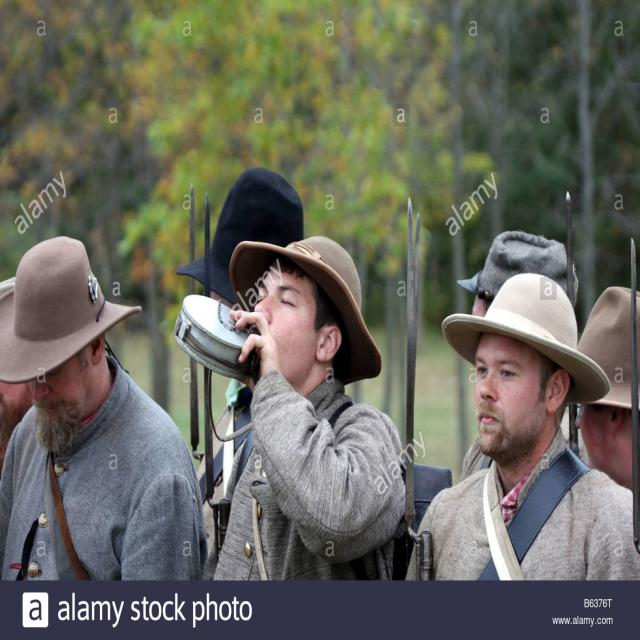body: (402, 271, 640, 580), (200, 232, 408, 581), (0, 238, 210, 580), (176, 167, 303, 556), (456, 228, 590, 484), (573, 273, 640, 487), (0, 271, 39, 470)
